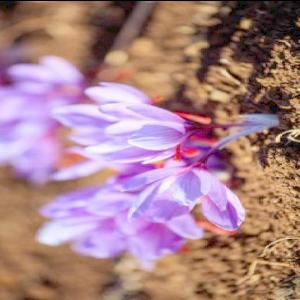Saffron: (130, 154, 244, 228), (95, 100, 207, 166)
